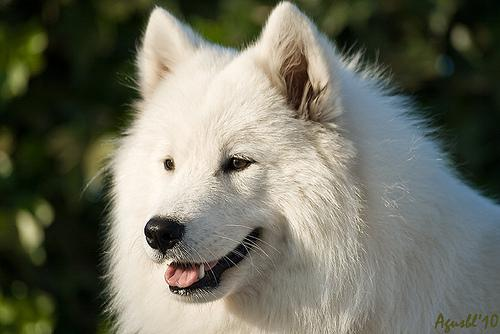dog-samoyed: (135, 0, 343, 303)
